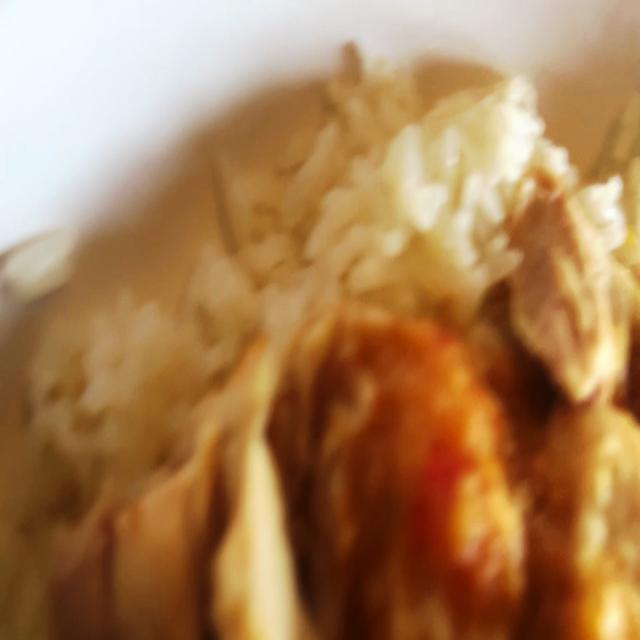boiled_chicken: (130, 186, 640, 640)
chicken_rice: (0, 92, 640, 640)
